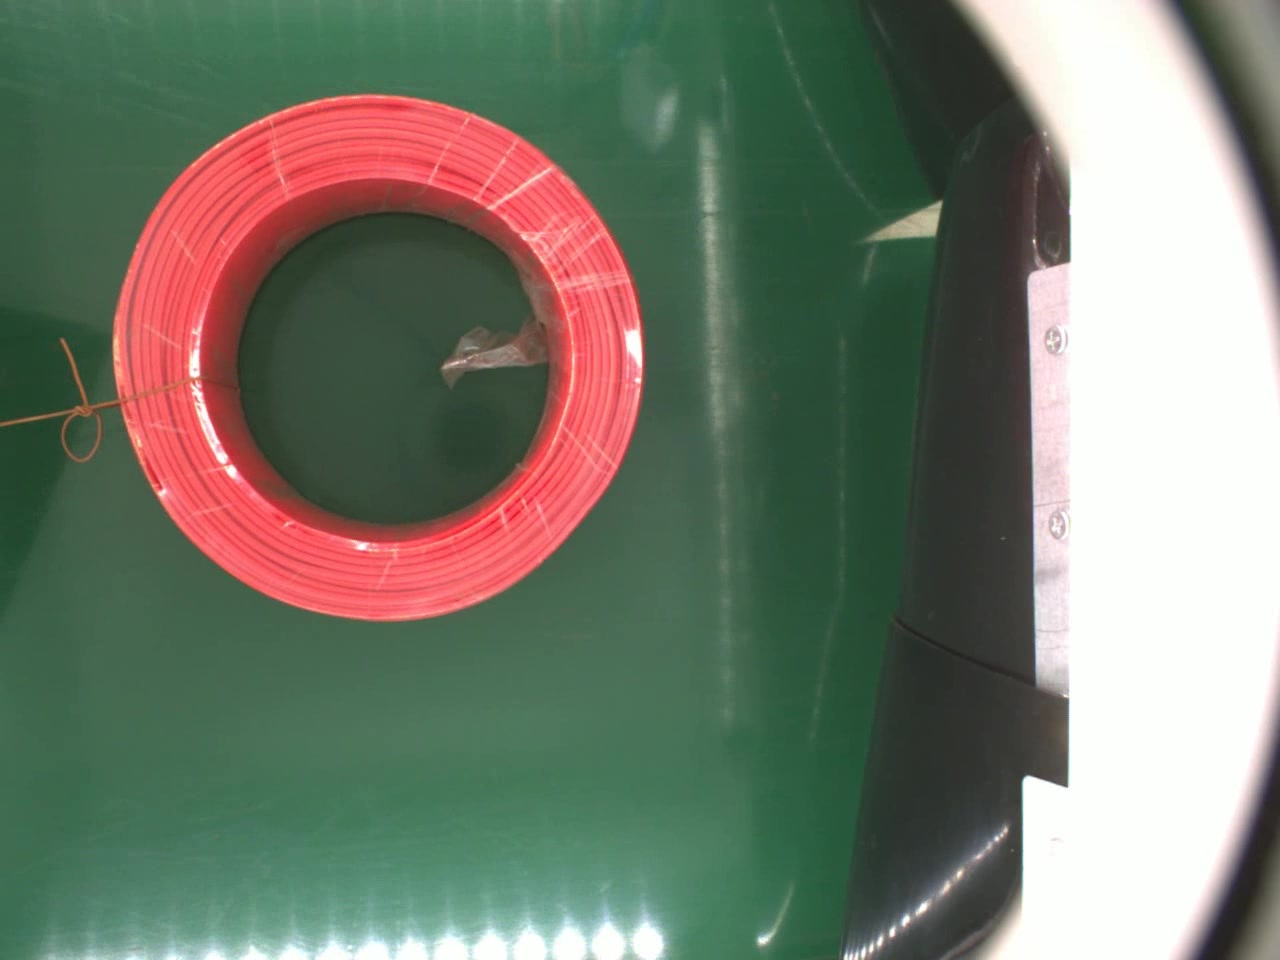red: (108, 90, 651, 637)
